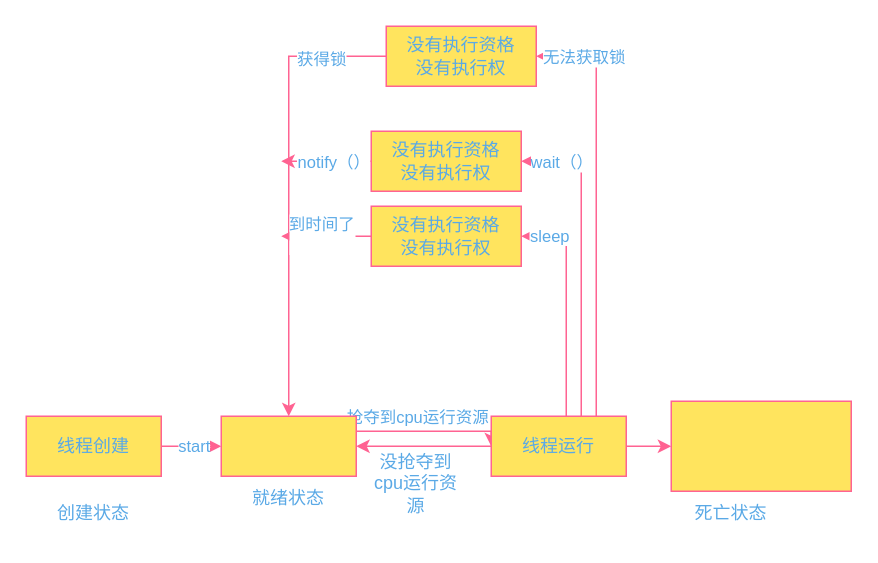
This 878x563 diagram has some shape labels left out. The shapes that lost their labels are listed below. From the top down, each one's centre as x and y in pixels, then its label:
the point at 288,445: 线程就绪
the point at 760,445: 线程死亡
